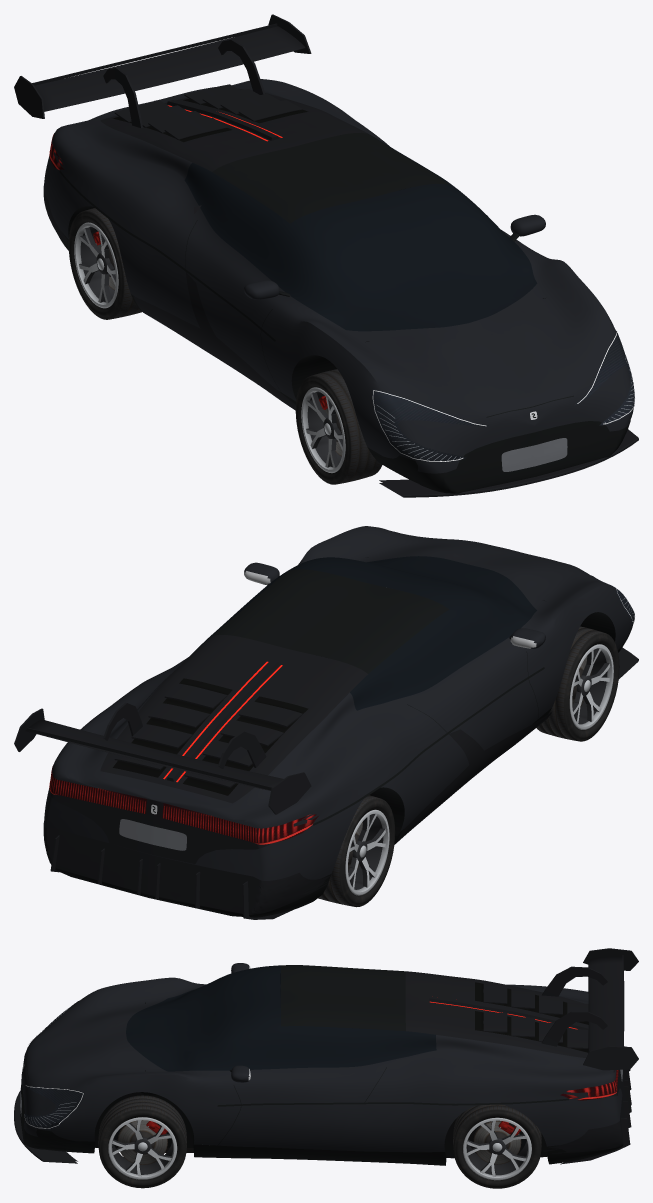
3 views of the same model, one above another, from view 1: azimuth 30°, elevation 25°; view 2: azimuth 150°, elevation 25°; view 3: azimuth 270°, elevation 25° (orthographic). The views are drawn at different scales.
Parts seen in each view (by area): view 1: shell, body_trim, bumpers, wing, lamps, tyre_fr, spin_rr_rim, spin_fr_rim, tyre_rr, mirrors; view 2: shell, bumpers, body_trim, wing, lamps, tyre_fr, spin_rr_rim, spin_fr_rim, tyre_rr, mirrors; view 3: shell, body_trim, bumpers, wing, tyre_fl, spin_fl_rim, spin_rl_rim, tyre_rl, lamps, mirrors.
Boxes of the visible parts, left/top/right/bottom form: shell: left=44, top=79, right=633, bottom=473; body_trim: left=57, top=98, right=633, bottom=493; bumpers: left=43, top=84, right=638, bottom=497; wing: left=14, top=14, right=311, bottom=128; lamps: left=49, top=100, right=634, bottom=462; tyre_fr: left=295, top=369, right=382, bottom=484; spin_rr_rim: left=74, top=222, right=118, bottom=308; spin_fr_rim: left=301, top=387, right=345, bottom=473; tyre_rr: left=68, top=208, right=142, bottom=319; mirrors: left=244, top=214, right=545, bottom=299; shell: left=44, top=526, right=632, bottom=880; bumpers: left=43, top=647, right=638, bottom=919; body_trim: left=55, top=557, right=632, bottom=917; wing: left=14, top=702, right=311, bottom=814; lamps: left=49, top=534, right=634, bottom=844; tyre_fr: left=536, top=626, right=619, bottom=741; spin_rr_rim: left=345, top=809, right=389, bottom=895; spin_fr_rim: left=569, top=644, right=613, bottom=729; tyre_rr: left=318, top=795, right=395, bottom=907; mirrors: left=244, top=562, right=545, bottom=648; shell: left=21, top=965, right=622, bottom=1152; body_trim: left=20, top=965, right=622, bottom=1165; bumpers: left=14, top=983, right=631, bottom=1164; wing: left=541, top=948, right=638, bottom=1070; tyre_fl: left=98, top=1095, right=186, bottom=1188; spin_fl_rim: left=108, top=1117, right=177, bottom=1179; spin_rl_rim: left=463, top=1117, right=531, bottom=1180; tyre_rl: left=453, top=1104, right=541, bottom=1188; lamps: left=24, top=1001, right=618, bottom=1130; mirrors: left=231, top=963, right=249, bottom=1082.
Bounding box in the file's own units: 2.2 × 1.33 × 5.11.
Materials: 9 (5 with a texture image).
